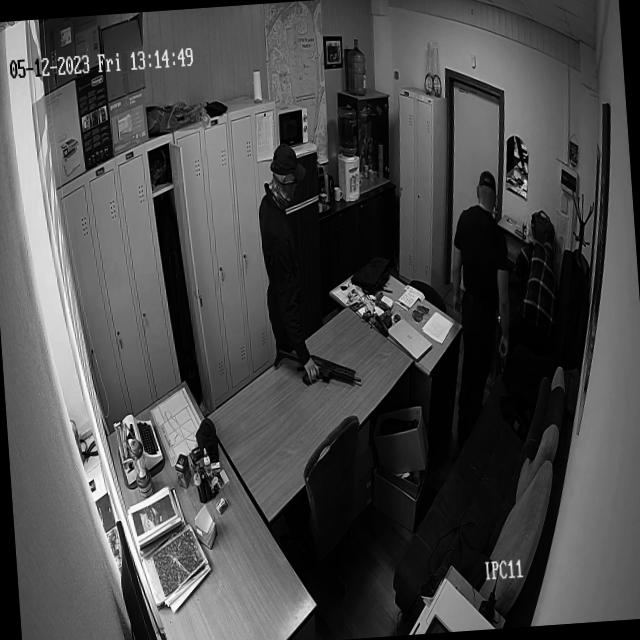gun: (272, 341, 361, 391), (496, 339, 510, 377)
person: (512, 238, 562, 348)
person with a gun: (448, 168, 514, 412), (252, 144, 313, 376)
